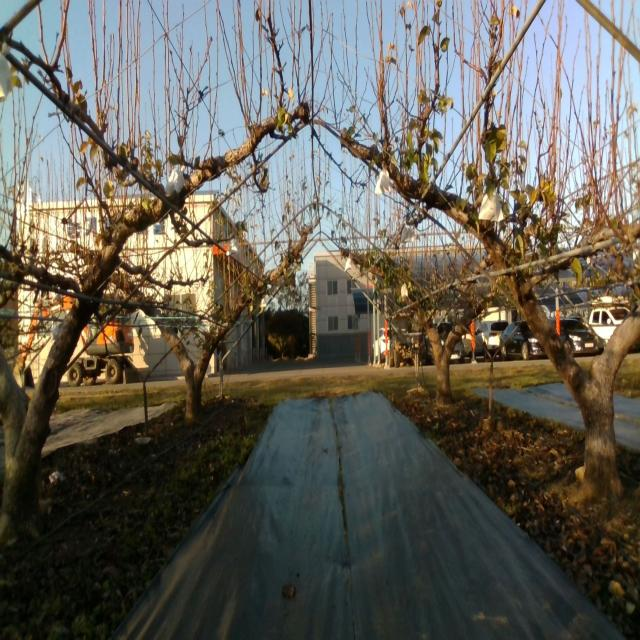pearbags: (478, 192, 504, 222), (164, 164, 186, 197), (374, 167, 391, 195), (226, 238, 241, 259), (401, 224, 414, 243)
